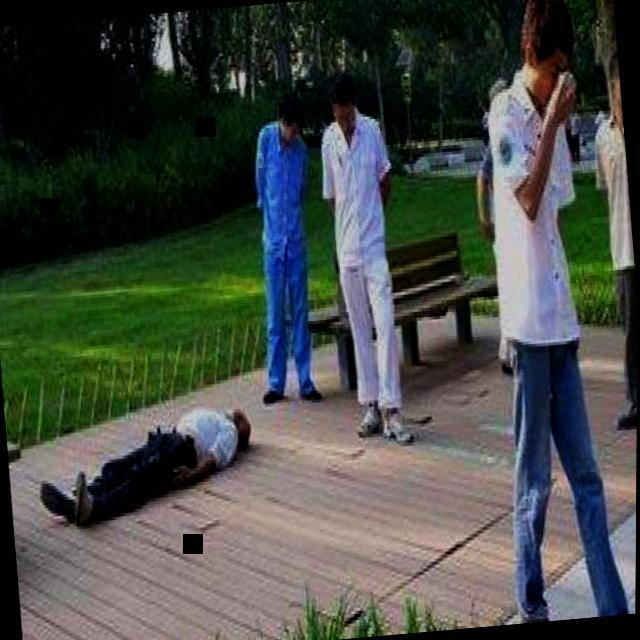Fall-Detected: (27, 376, 271, 532)
